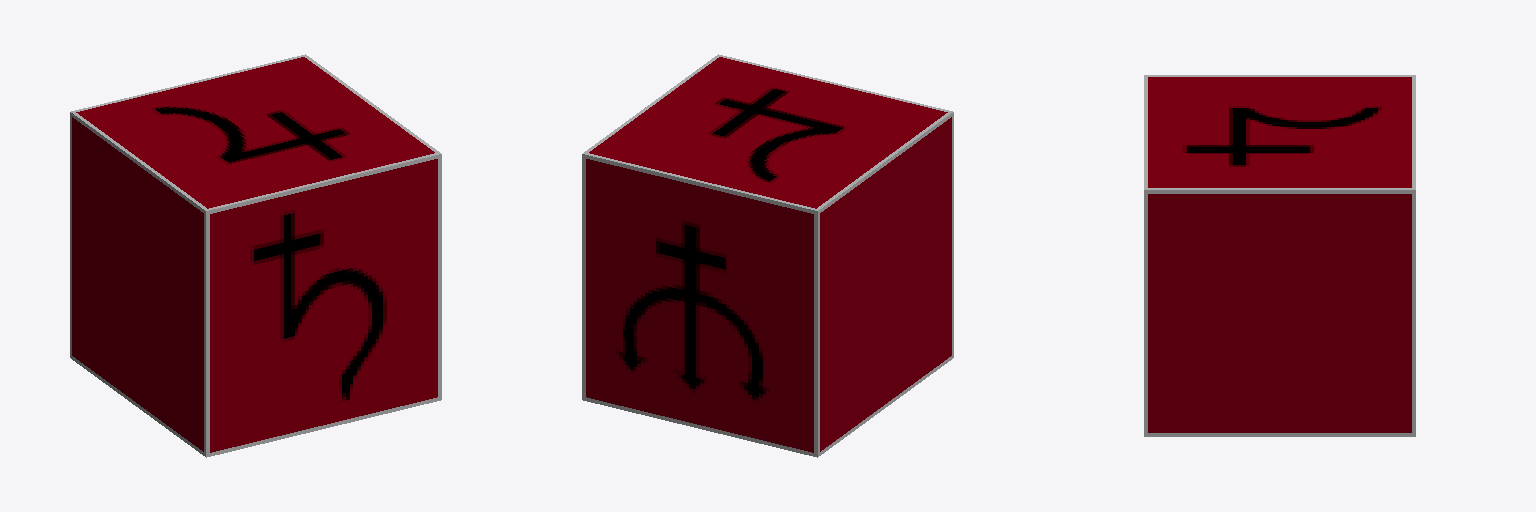
3 renders of one model, left to right at view 1: azimuth 30°, elevation 25°; view 2: azimuth 150°, elevation 25°; view 3: azimuth 270°, elevation 25°, orthographic.
Visible parts, largest first — view 1: pCube1; view 2: pCube1; view 3: pCube1.
Boxes of the visible parts, <box> form: pCube1: <box>70,54,441,457</box>; pCube1: <box>582,54,953,457</box>; pCube1: <box>1144,75,1415,436</box>.
Size of the model in its own units: 2 by 2 by 2.
Materials: 1 (1 with a texture image).